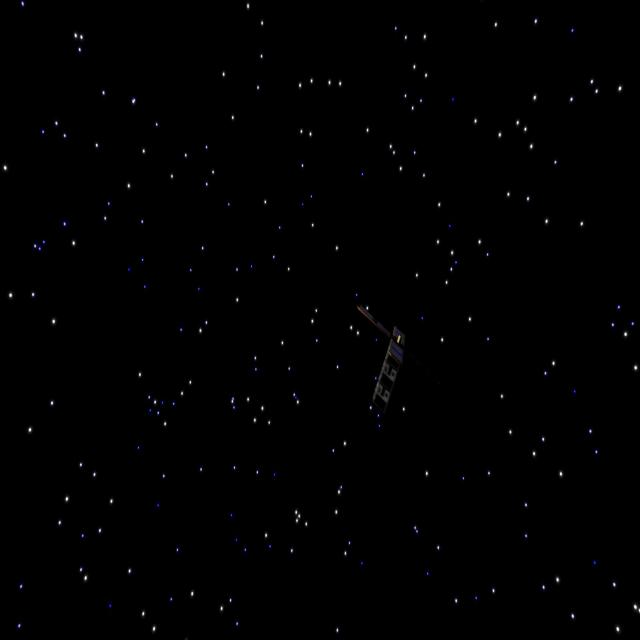medium_debris: (357, 290, 418, 430)
